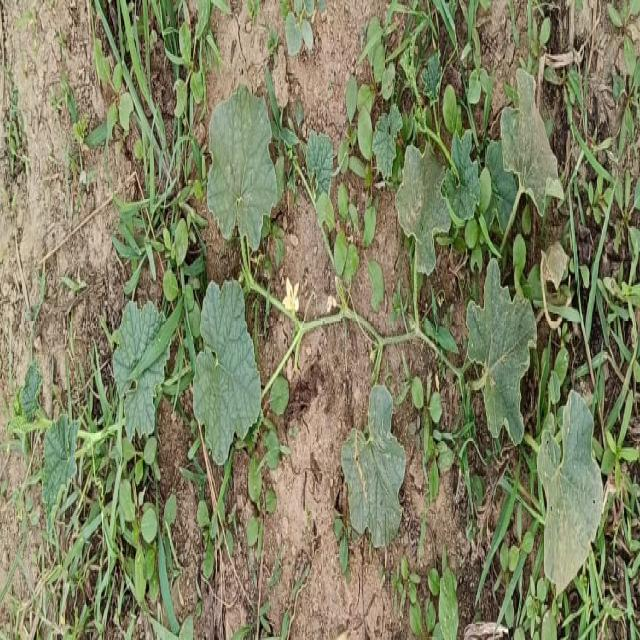plant: (395, 44, 480, 297), (208, 87, 276, 291), (468, 258, 536, 444), (194, 280, 261, 466), (539, 393, 602, 584), (342, 386, 404, 546), (500, 69, 561, 215), (114, 302, 169, 433), (306, 135, 334, 229), (371, 102, 401, 176), (423, 58, 441, 109), (541, 247, 564, 286)
